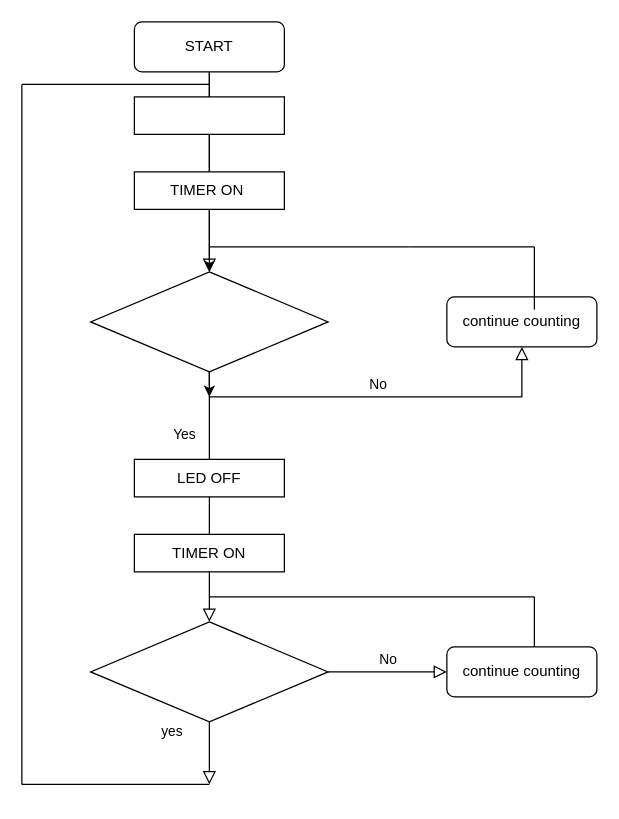
This 619x819 diagram has some shape labels left out. Each missing label, with the box of its shape:
LED ON: (133, 96, 284, 134)
timer counter = TIMEOFF: (89, 621, 328, 722)
timer counter = TimeON: (89, 271, 328, 372)
